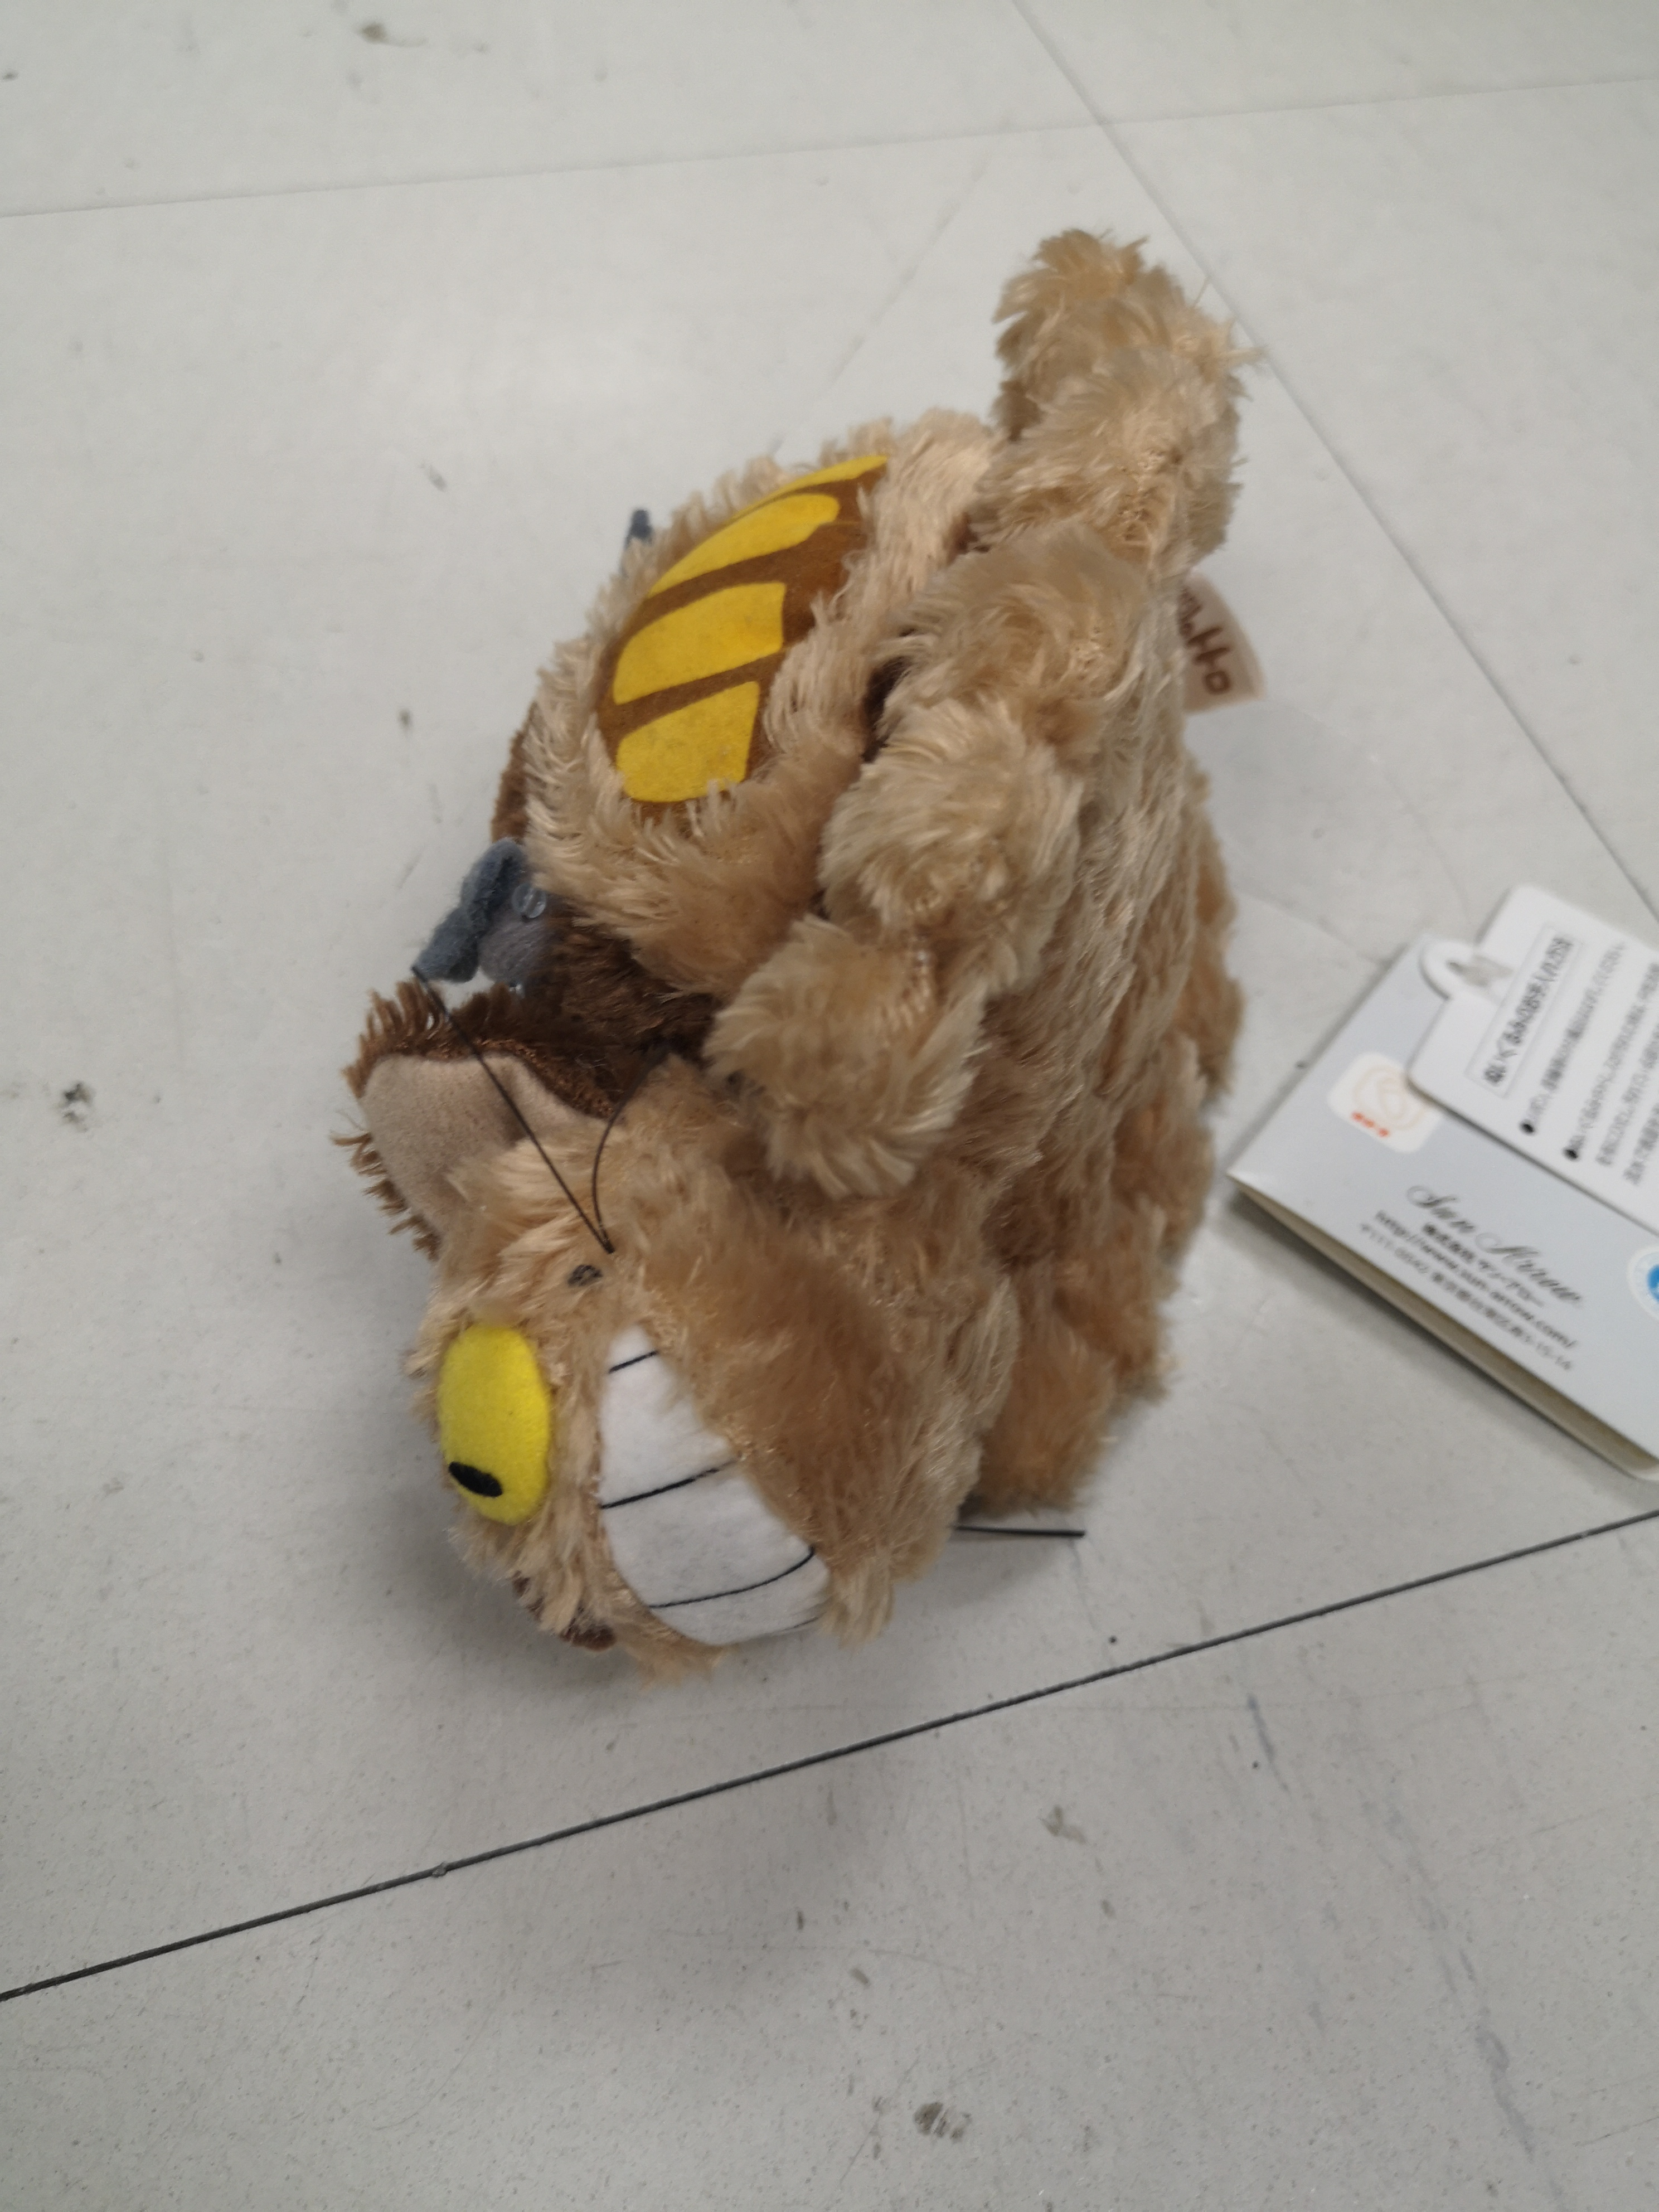nekobus: (333, 207, 1263, 1740)
